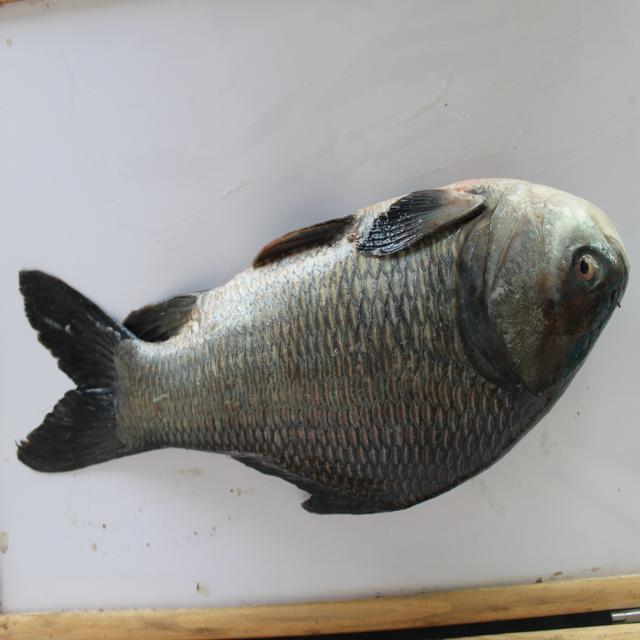Catla: (2, 182, 634, 524)
